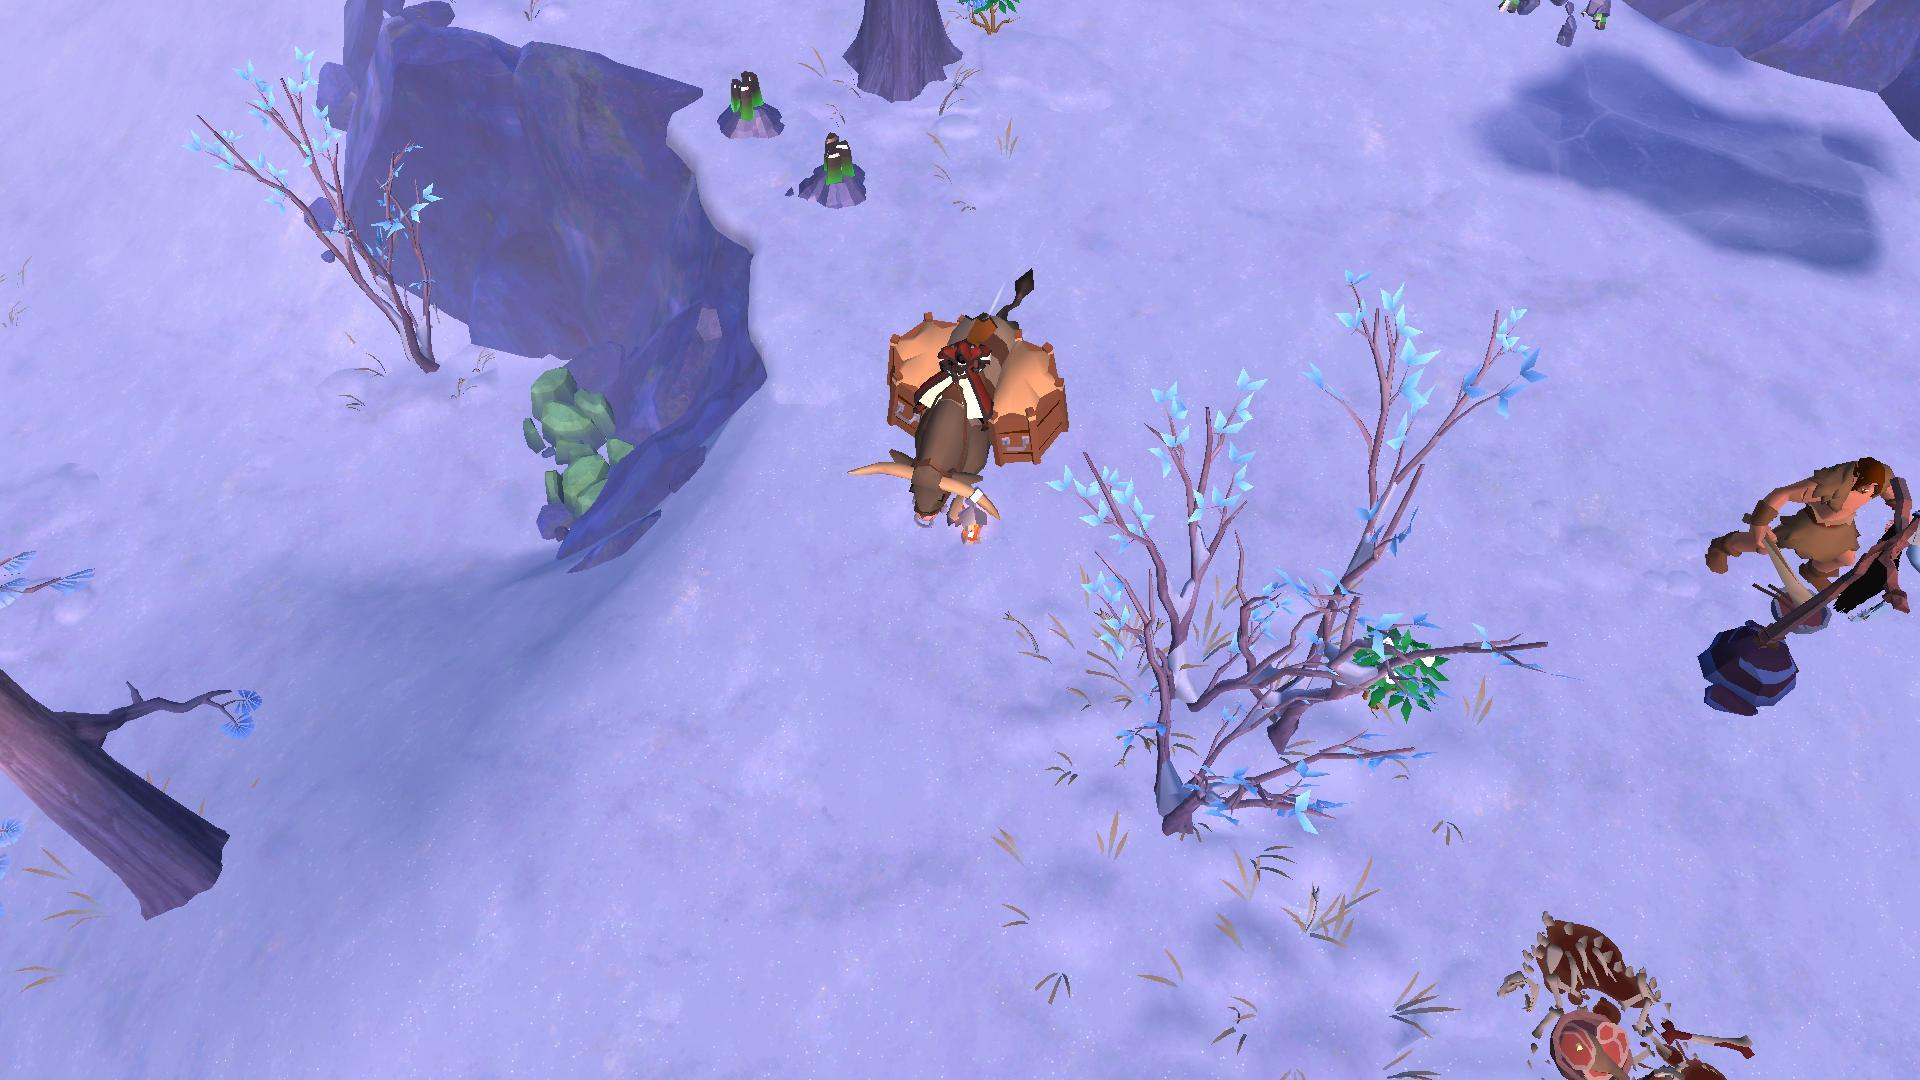enemy_factionKeeper: (1701, 455, 1898, 605)
fiber_t3: (1342, 622, 1448, 717)
ore_t3: (720, 62, 764, 123), (818, 132, 858, 186)
rock_t3: (535, 436, 658, 530), (516, 367, 634, 456)
